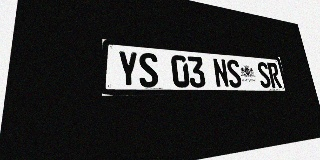0: (171, 55, 190, 88)
3: (187, 56, 206, 88)
N: (212, 58, 230, 88)
R: (267, 62, 282, 88)
S: (138, 52, 159, 87), (226, 59, 243, 88), (256, 62, 272, 88)
Y: (117, 50, 139, 87)
